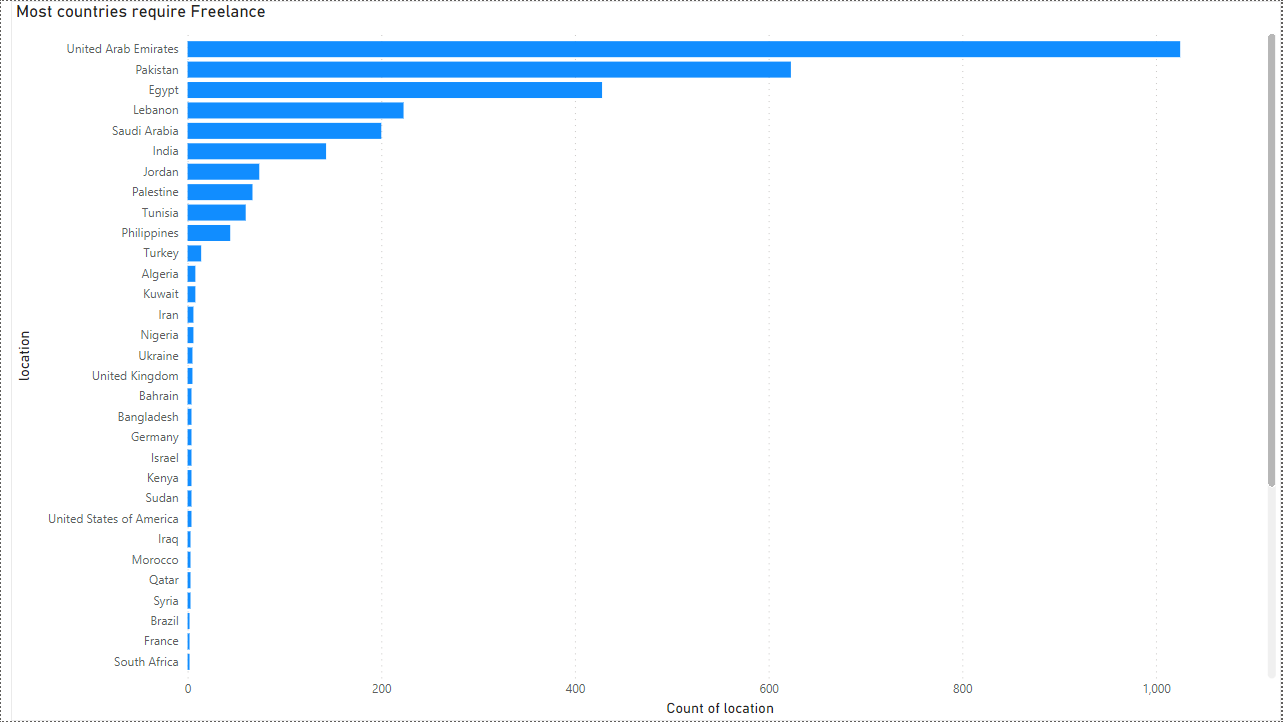

The dashboard page shown, as its layout file describes it:
{"tool":"powerbi","page":{"name":"Page 8","canvas":[1280,720],"ordinal":7},"visuals":[{"type":"barChart","title":"Most countries require Freelance","fields":{"Category":["MiddleEastFreelancers_cleaning.location"],"Y":["CountNonNull(MiddleEastFreelancers_cleaning.location)"]},"box":[10,0,1270,720],"z":0}]}

Visuals, with their boxes in screenshot pixels (x1, y1, x2, y2), scaled from the page's 1280x720 canvas onto the 1283x722 screenshot:
"Most countries require Freelance" barChart: <box>10,0,1282,721</box>
